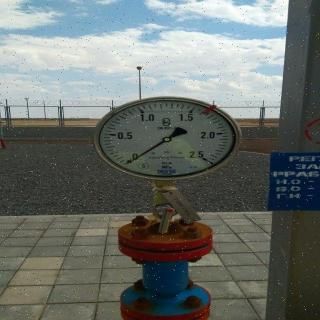gauge: (92, 93, 241, 179), (192, 149, 216, 167), (121, 153, 139, 169), (162, 135, 171, 143), (123, 160, 130, 167)
